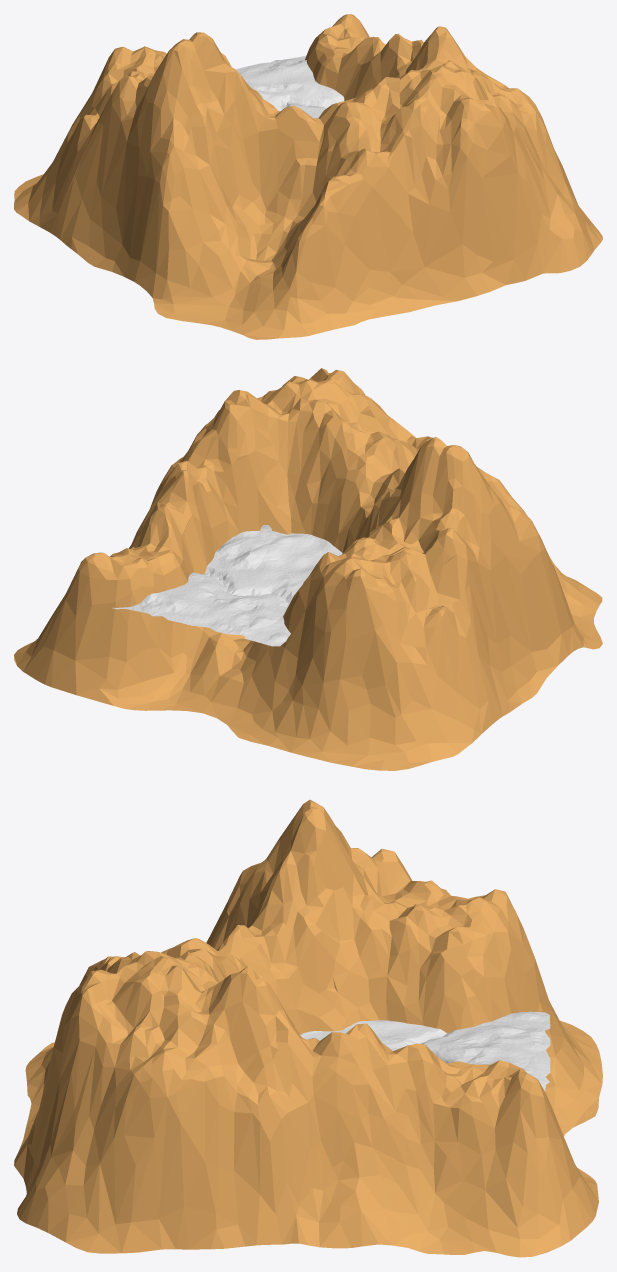
The model's file is Fields combo.fbx.
3 views of the same model, one above another, from view 1: azimuth 30°, elevation 25°; view 2: azimuth 150°, elevation 25°; view 3: azimuth 270°, elevation 25° (orthographic). The views are drawn at different scales.
Parts seen in each view (by area): view 1: Mounting_2, Plane; view 2: Mounting_2, Plane; view 3: Mounting_2, Plane.
Boxes of the visible parts, x1=… form: Mounting_2: x1=14, y1=14, x2=602, y2=339; Plane: x1=236, y1=55, x2=344, y2=118; Mounting_2: x1=14, y1=368, x2=602, y2=770; Plane: x1=112, y1=525, x2=342, y2=646; Mounting_2: x1=14, y1=799, x2=602, y2=1257; Plane: x1=300, y1=1011, x2=550, y2=1091.
Size of the model in its own units: 1969 by 979 by 1962.
